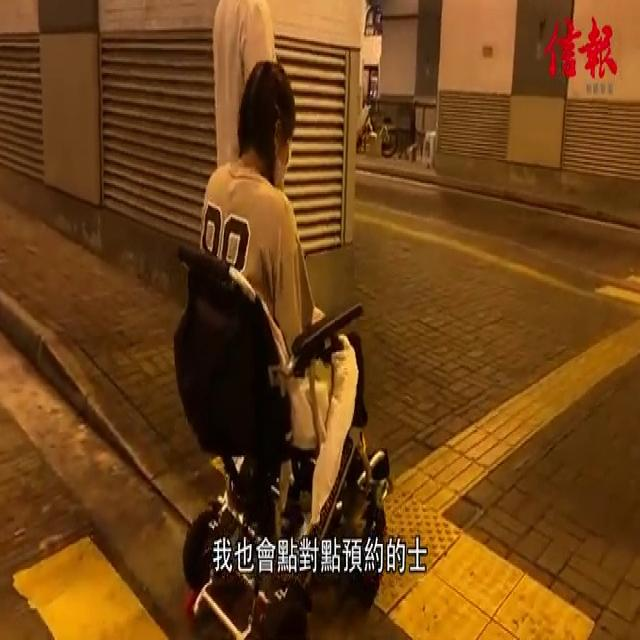wheelchairs: (170, 247, 394, 640)
